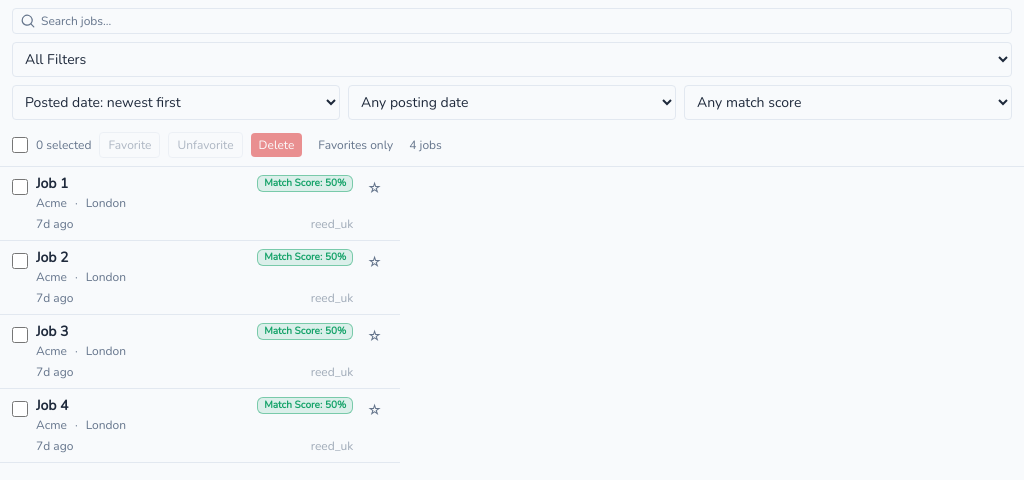
Test: JobList › supports shift-select to apply range selection
Click the checkbox named "select job job 1" at (20, 187), box [12,179,28,195]
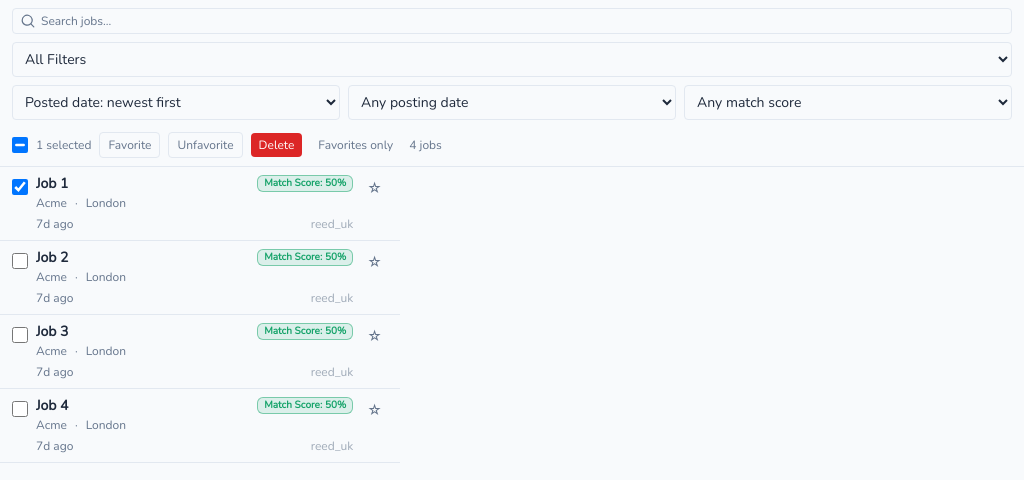
Click the checkbox named "select job job 3" at (20, 335), box [12,327,28,343]
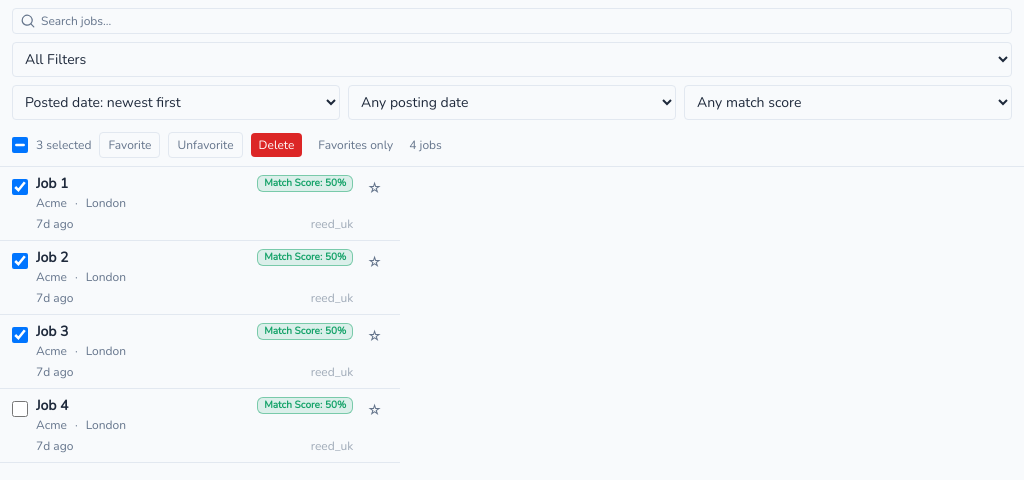
Now the checkbox named "select job job 1" is checked, box [12,179,28,195]
Now the text "3 selected" is shown, box [12,137,91,153]
Now the checkbox named "select job job 2" is checked, box [12,253,28,269]
